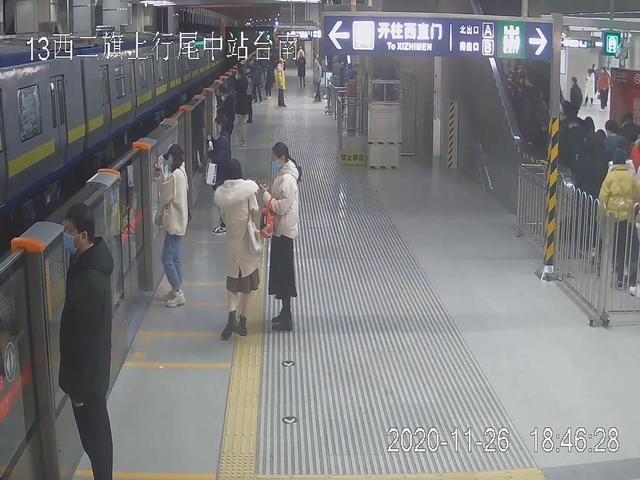person: (58, 202, 120, 480), (265, 141, 309, 334), (215, 158, 257, 341), (155, 143, 189, 309), (204, 116, 235, 238), (271, 57, 289, 110)
